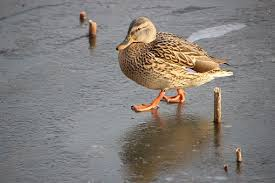Walking: (110, 8, 238, 117)
